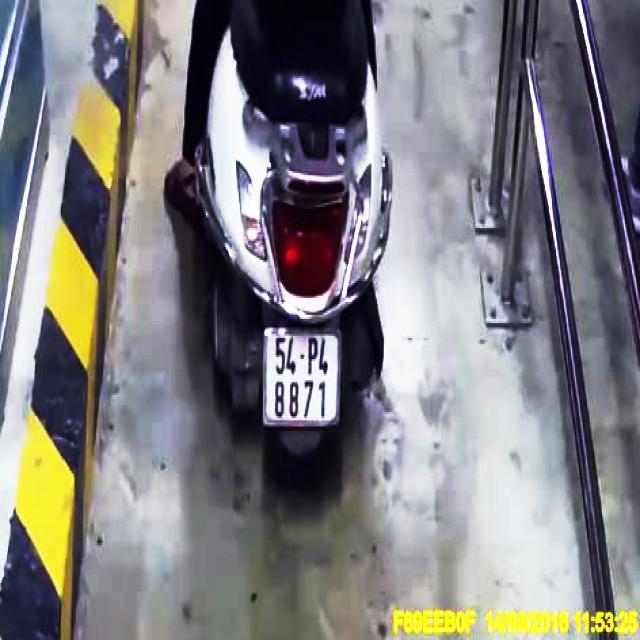license_plate: (264, 332, 341, 421)
